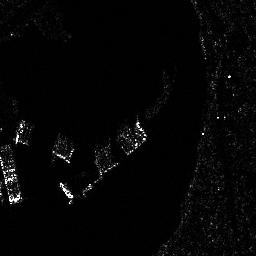ship: (1, 146, 24, 203), (57, 181, 74, 199)
